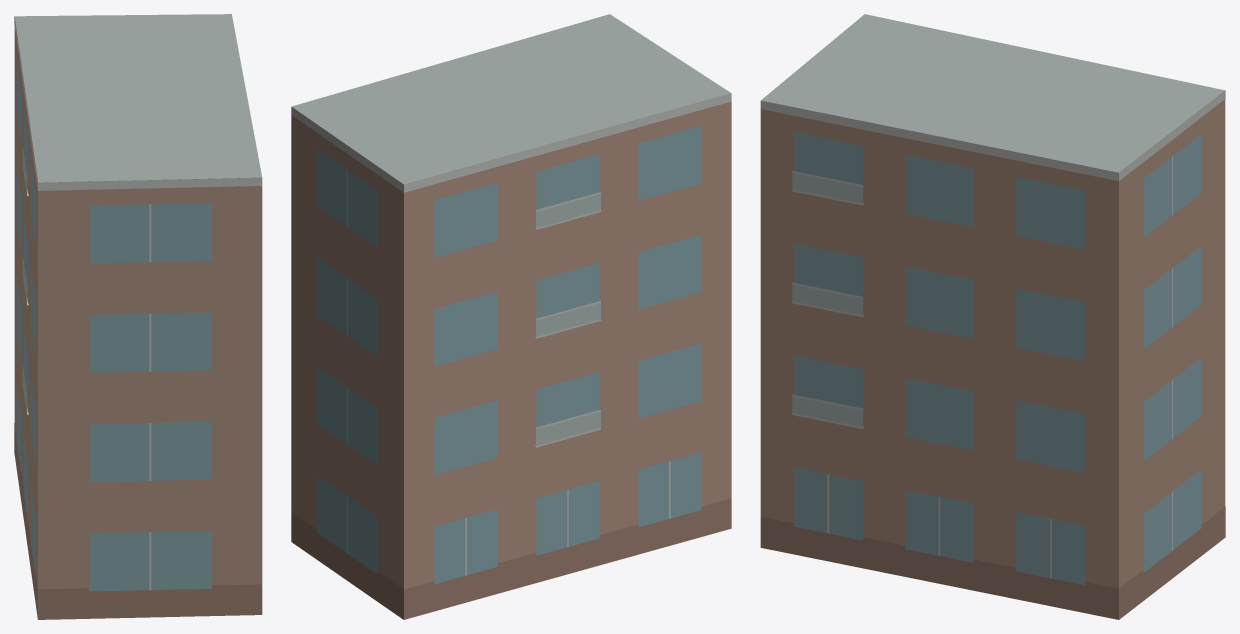
Rendered from survey-upis-32727137.glb.
3 views of the same model, side by side, from view 1: azimuth 30°, elevation 25°; view 2: azimuth 150°, elevation 25°; view 3: azimuth 270°, elevation 25° (orthographic). The views are drawn at different scales.
Visible parts, largest first — view 1: survey-upis-32727137.tmp; view 2: survey-upis-32727137.tmp; view 3: survey-upis-32727137.tmp.
Boxes of the visible parts, bbox=[...] form: survey-upis-32727137.tmp: bbox=[14, 14, 262, 619]; survey-upis-32727137.tmp: bbox=[291, 14, 731, 619]; survey-upis-32727137.tmp: bbox=[760, 14, 1225, 619].
Size of the model in its own units: 9.75 by 12.8 by 12.07.
